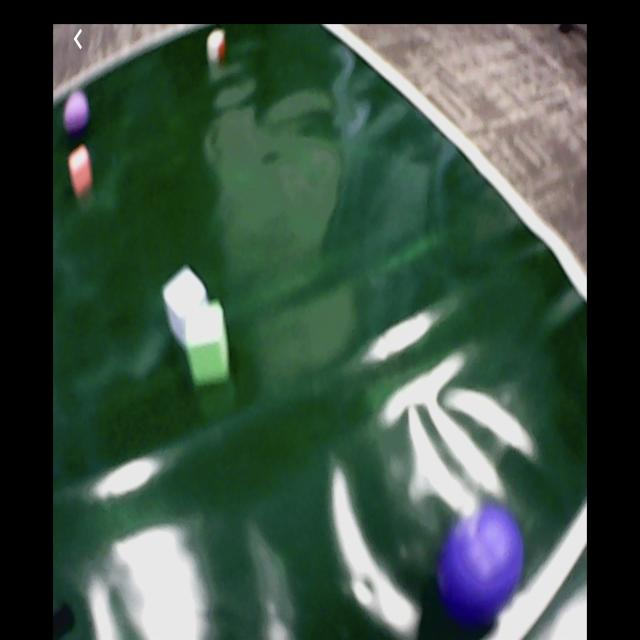ball: (443, 509, 520, 620), (66, 92, 89, 132)
